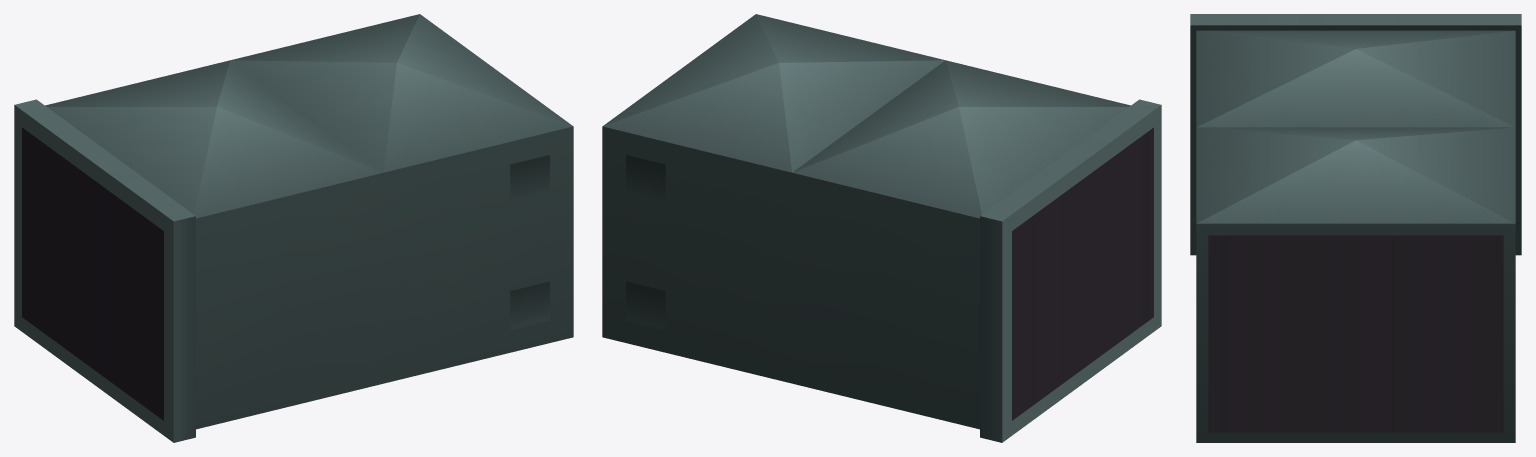
The model's file is Air_Vent_3C.fbx.
The picture shows the model from 3 angles, left to right: view 1: azimuth 30°, elevation 25°; view 2: azimuth 150°, elevation 25°; view 3: azimuth 270°, elevation 25°; orthographic projection. The views are drawn at different scales.
Visible parts, largest first — view 1: Air_Vent_3C; view 2: Air_Vent_3C; view 3: Air_Vent_3C.
Part boxes in pixels (bbox=[...]): Air_Vent_3C: bbox=[14, 14, 573, 442]; Air_Vent_3C: bbox=[602, 14, 1161, 442]; Air_Vent_3C: bbox=[1190, 14, 1521, 442].
Bounding box in the file's own units: 2.01 × 1.17 × 1.37.
